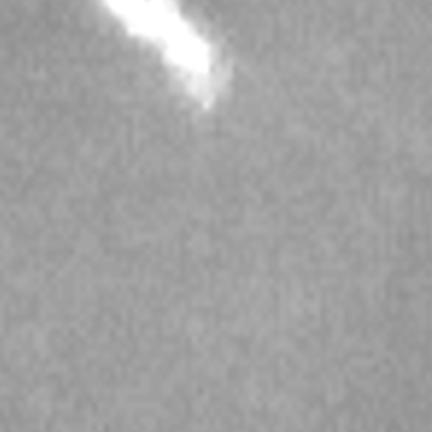flukeprints: (97, 0, 232, 111)
